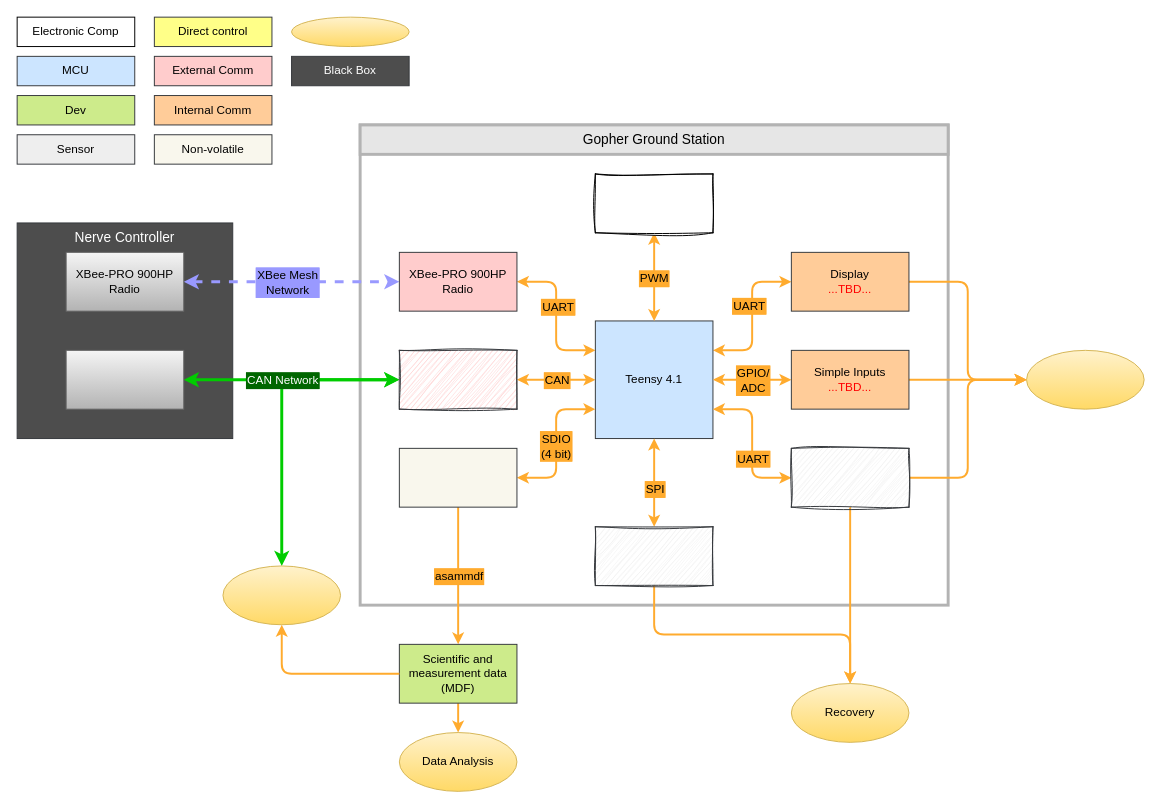
Image size: 1161x809. Some labels were removed from this diagram. The centre of each missing label's shape, as x and y in pixels:
BNO085 9-DOF IMU: the point at 653,556
Controls Development: the point at 281,595
Externally accessible CAN: the point at 124,379
microSD: the point at 457,477
Mission Control: the point at 1085,379
Objective: the point at 350,31
SAM-M10Q GPS: the point at 849,477
TJA1051T/3: the point at 457,379
WS2812B PWM RGB LED (n-in-series): the point at 653,203
